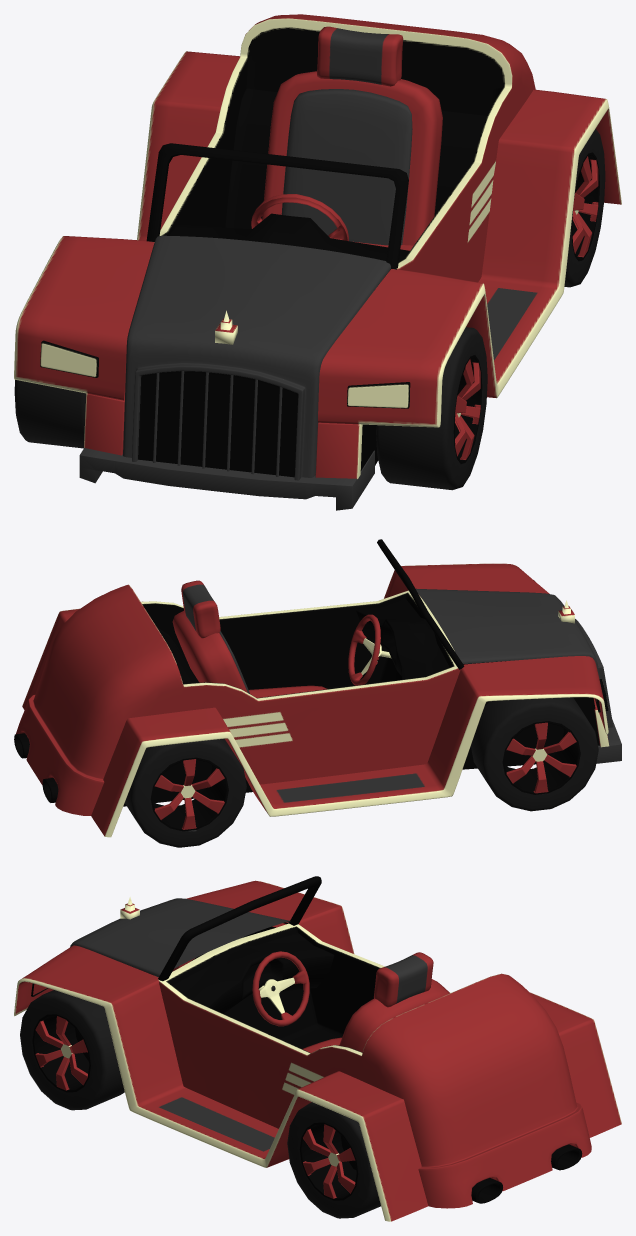
File: RoroJonggrang_CarScalePose.fbx
3 renders of one model, top to bottom at view 1: azimuth 30°, elevation 25°; view 2: azimuth 150°, elevation 25°; view 3: azimuth 270°, elevation 25°, orthographic. The views are drawn at different scales.
Visible parts, largest first — view 1: Cube.001; view 2: Cube.001; view 3: Cube.001.
Boxes of the visible parts, x1,y1,x2,y2 form: Cube.001: (14, 14, 621, 510); Cube.001: (14, 539, 621, 847); Cube.001: (14, 876, 621, 1221).
Bounding box in the file's own units: 2663 × 2663 × 918.
